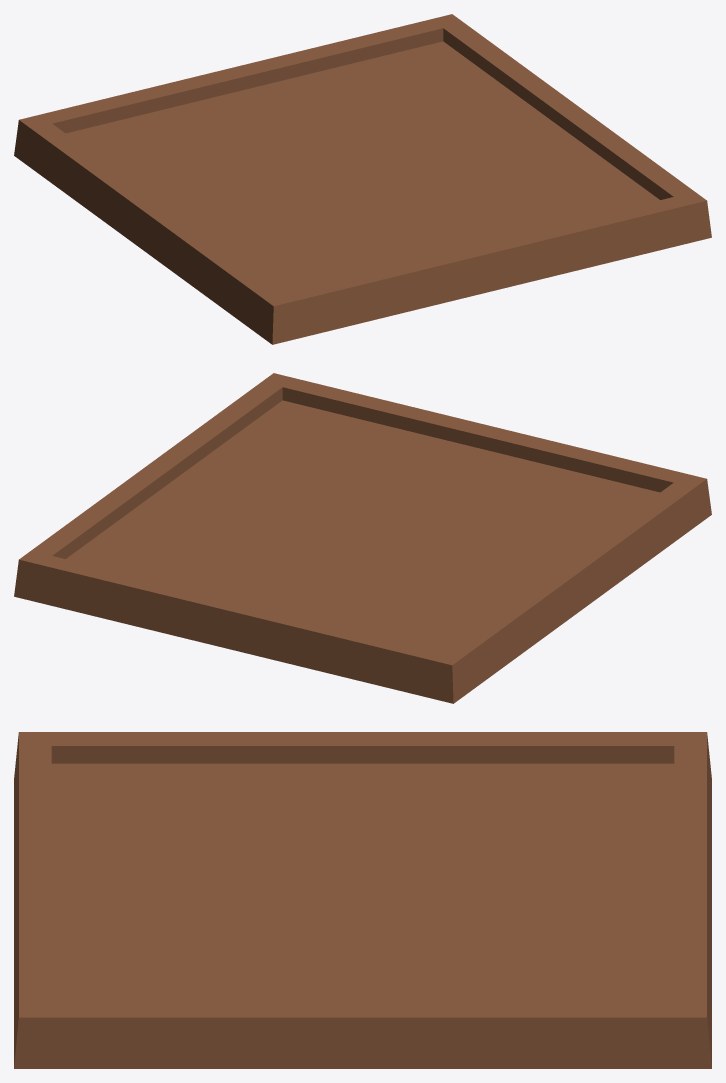
The model's file is crateLid.fbx.
3 views of the same model, one above another, from view 1: azimuth 30°, elevation 25°; view 2: azimuth 150°, elevation 25°; view 3: azimuth 270°, elevation 25° (orthographic). The views are drawn at different scales.
Parts seen in each view (by area): view 1: crateLid; view 2: crateLid; view 3: crateLid.
Boxes of the visible parts, bbox=[...] form: crateLid: bbox=[14, 14, 711, 344]; crateLid: bbox=[14, 373, 711, 703]; crateLid: bbox=[14, 732, 711, 1068].
Size of the model in its own units: 63.23 by 5.02 by 64.4.
Materials: 1 (1 with a texture image).
